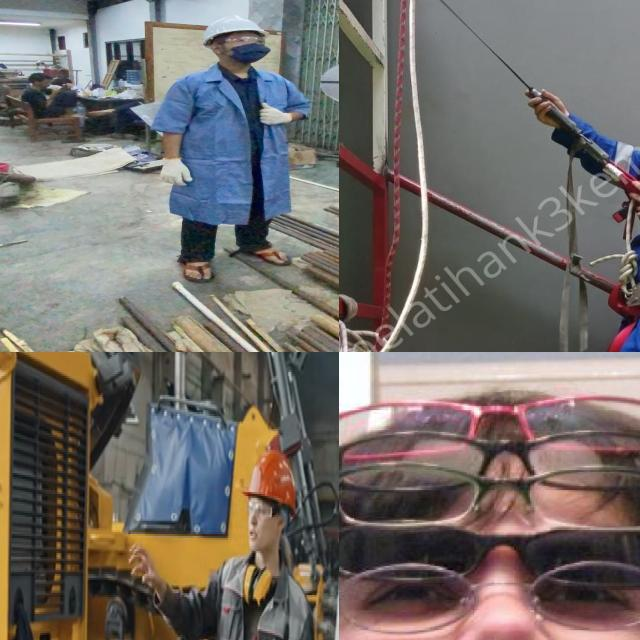Ear-protection: (243, 561, 273, 610)
Harness: (607, 147, 640, 347)
face_mask: (221, 32, 271, 62)
face_nomask: (354, 561, 640, 640)
glasses: (339, 456, 640, 536), (339, 430, 640, 504), (339, 399, 640, 464), (339, 520, 640, 580), (244, 491, 282, 525), (208, 36, 268, 48)
hand_glove: (156, 157, 197, 187), (252, 100, 294, 126)
head_helmet: (245, 440, 296, 521), (196, 14, 273, 42)
person: (146, 10, 310, 285), (202, 391, 317, 640)
